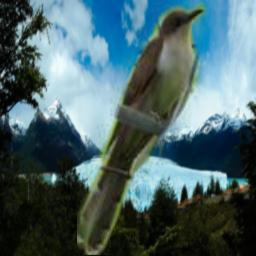Cuckoo: (77, 1, 207, 255)
